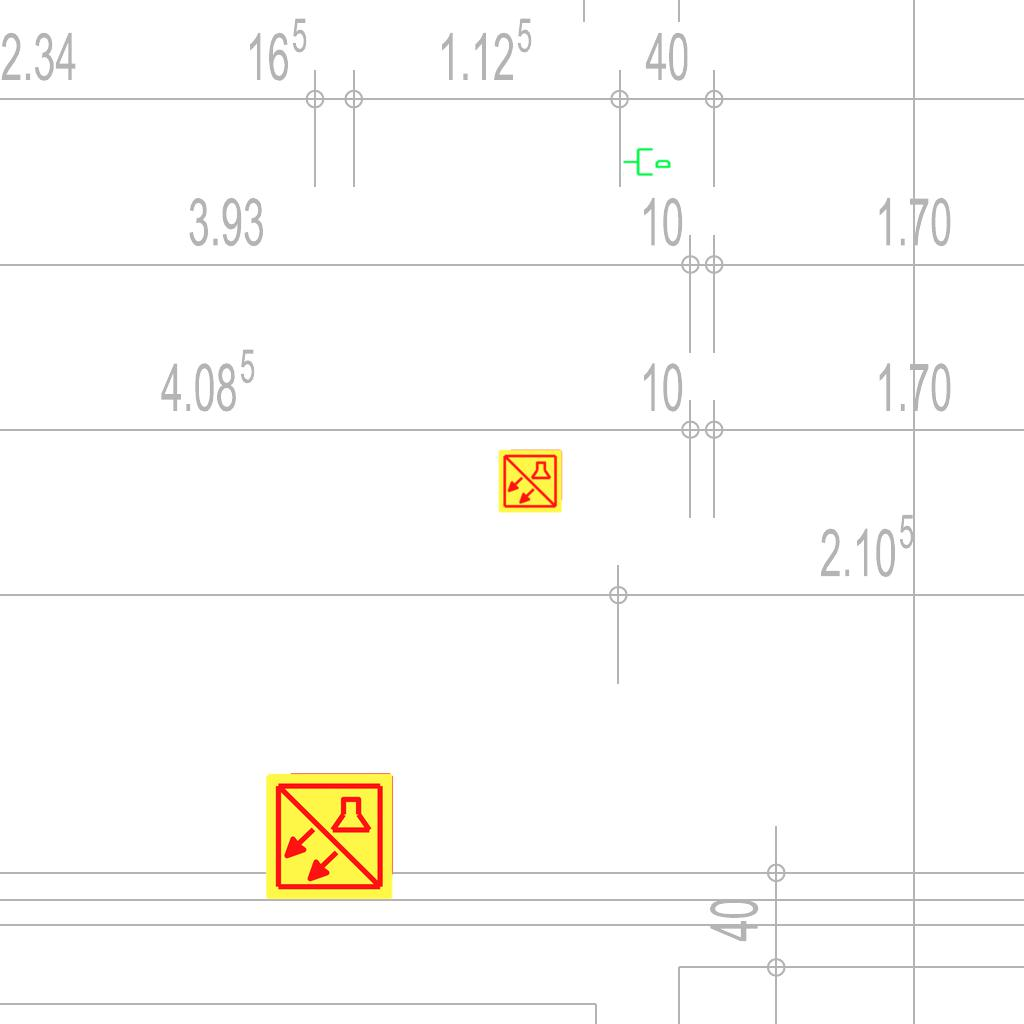Datenanschluss_einfach: (622, 144, 672, 178)
OKW_Multisensormelder_(Kombination_optischer_Rauch-Kahlenmonoxid_Waerme-Melder): (263, 770, 395, 902), (497, 448, 563, 514)
